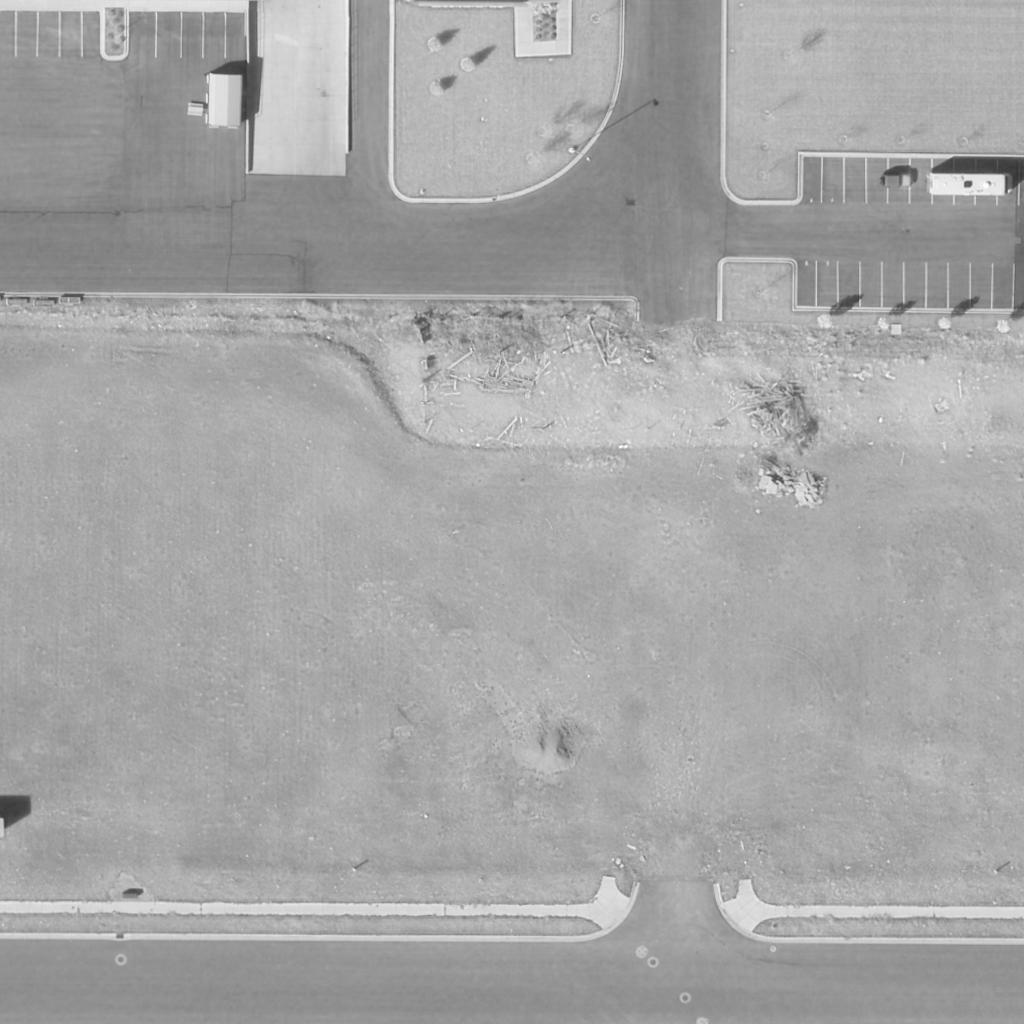vehicle: (928, 172, 1012, 198), (879, 174, 915, 190)
